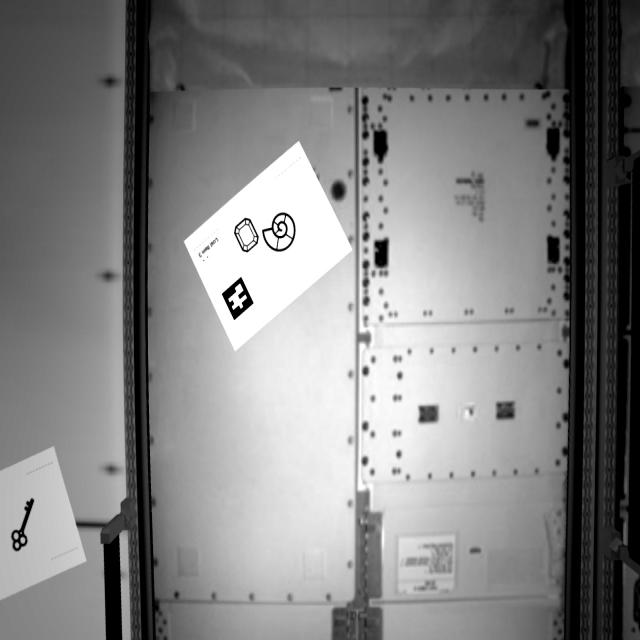emerald: (233, 212, 262, 257)
fossil: (263, 207, 301, 259)
